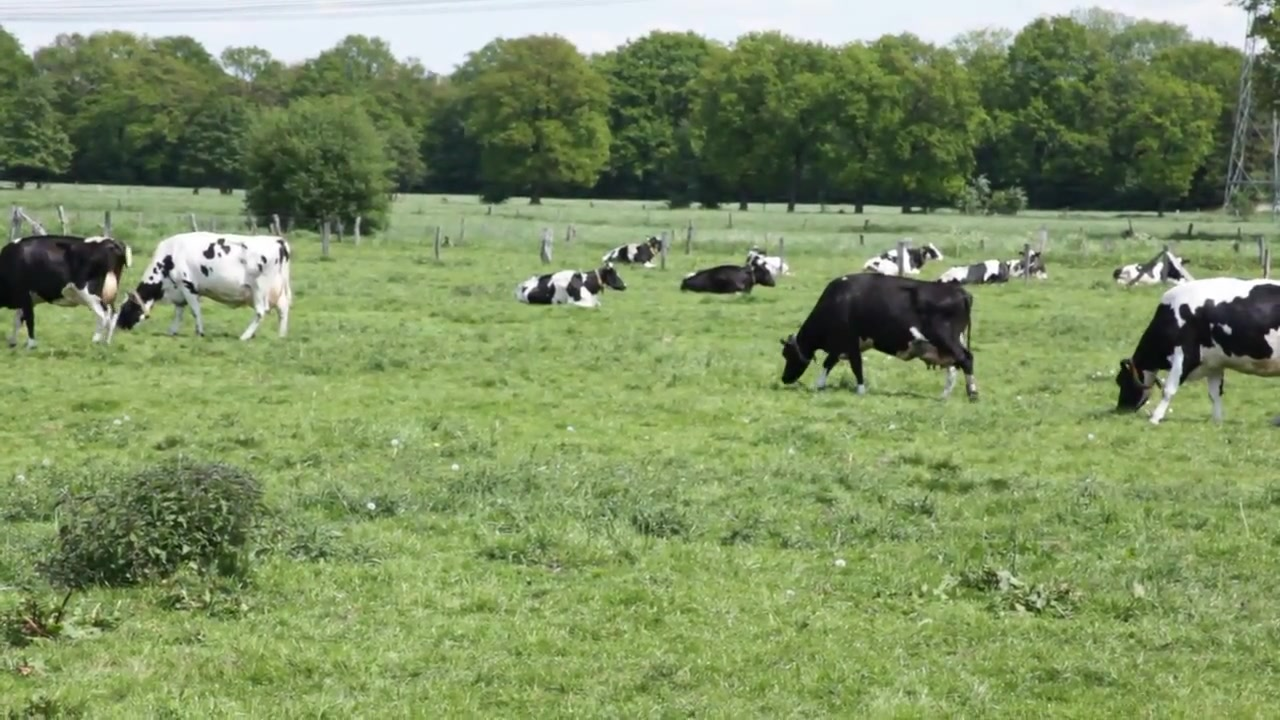cow: (779, 274, 983, 403)
